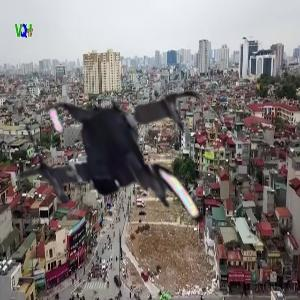drone: (9, 58, 243, 292)
